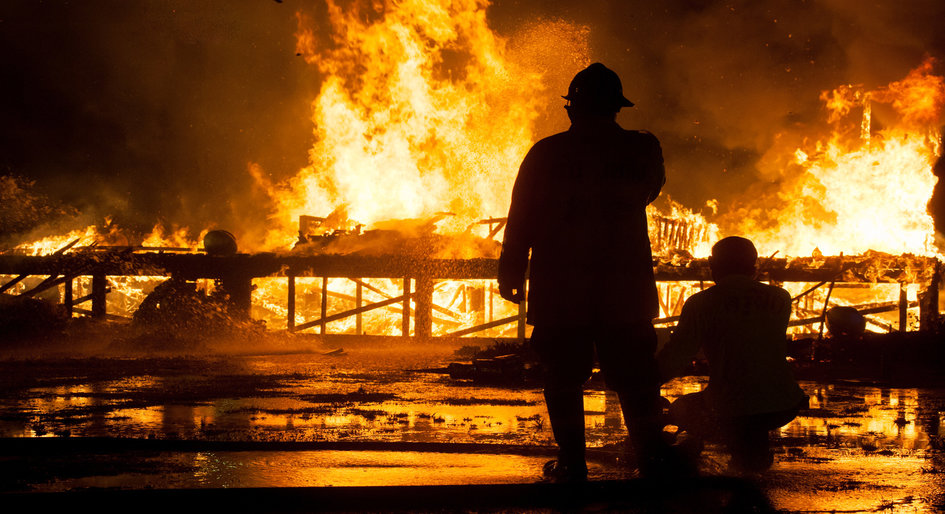Fire: (294, 17, 496, 223), (802, 83, 921, 263), (287, 271, 487, 336), (13, 202, 202, 249)
